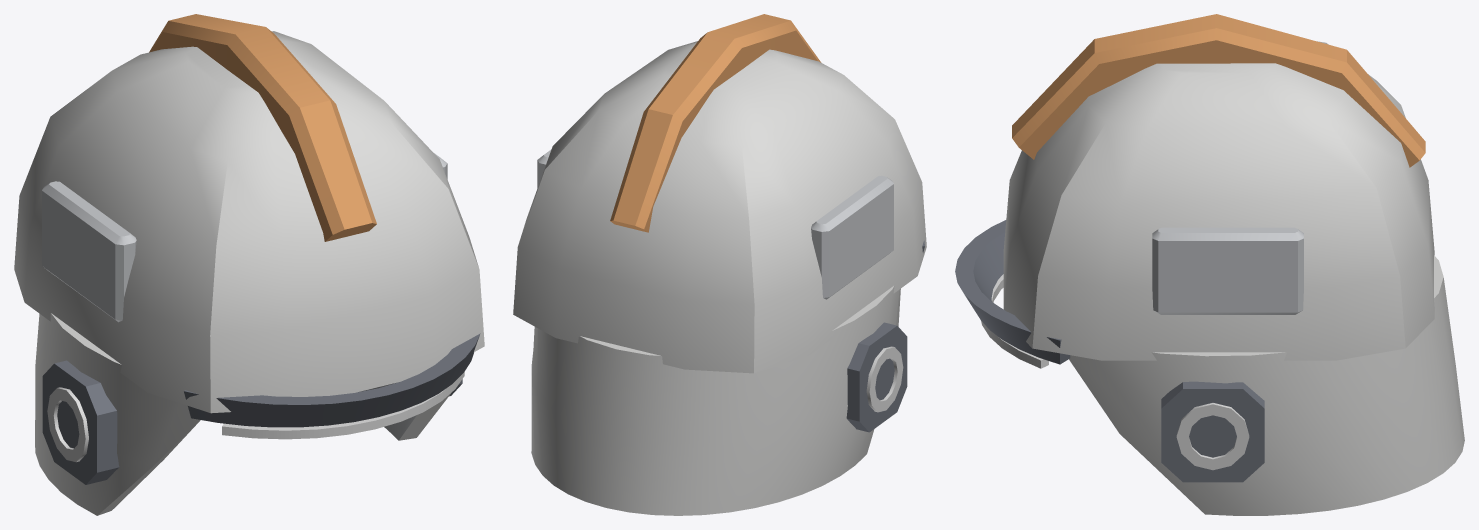
The model's file is gear_casque_garde.glb.
3 renders of one model, left to right at view 1: azimuth 30°, elevation 25°; view 2: azimuth 150°, elevation 25°; view 3: azimuth 270°, elevation 25°, orthographic. The views are drawn at different scales.
Parts seen in each view (by area): view 1: head__casque_garde, head__casque_garde_glow; view 2: head__casque_garde, head__casque_garde_glow; view 3: head__casque_garde, head__casque_garde_glow.
Boxes of the visible parts, <box> form: head__casque_garde: <box>14,14,484,515</box>; head__casque_garde_glow: <box>47,372,464,462</box>; head__casque_garde: <box>513,14,926,515</box>; head__casque_garde_glow: <box>866,346,903,412</box>; head__casque_garde: <box>955,14,1464,515</box>; head__casque_garde_glow: <box>981,274,1249,470</box>.
Bounding box in the file's own units: 0.269 × 0.305 × 0.336.
